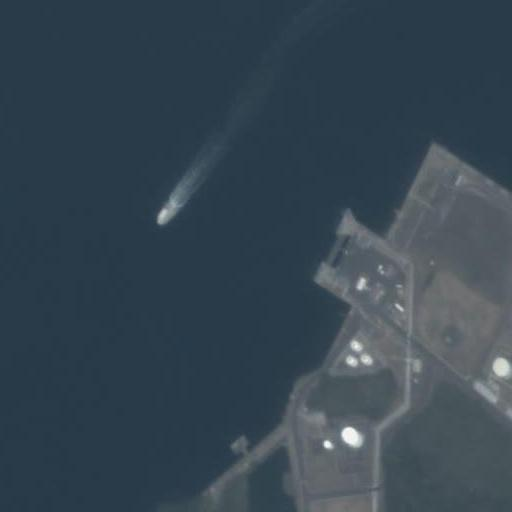person: (156, 206, 173, 225)
